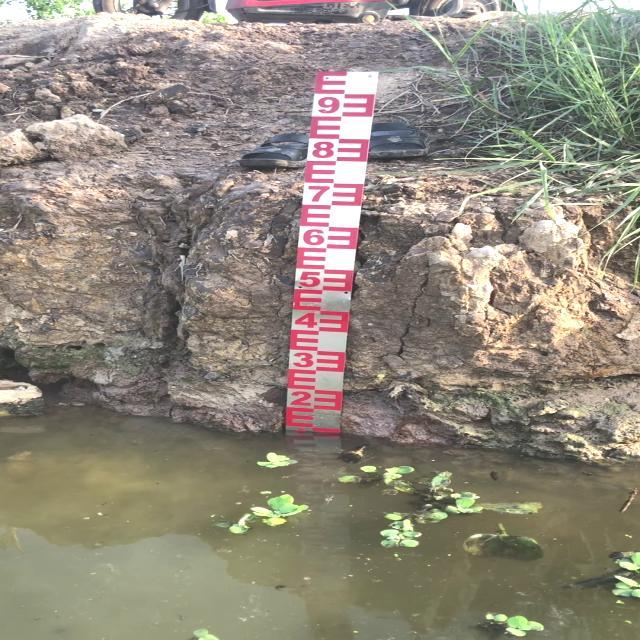ruler: (270, 57, 391, 453)
value: (287, 345, 319, 374), (293, 266, 325, 293), (298, 224, 329, 251), (302, 181, 334, 207), (313, 92, 343, 119), (284, 385, 315, 411), (306, 137, 337, 162), (293, 307, 320, 334)
